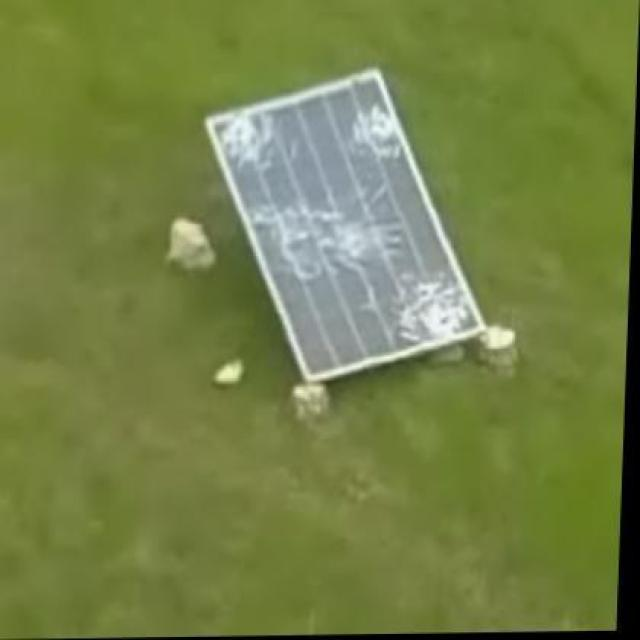cracked: (207, 62, 486, 388)
